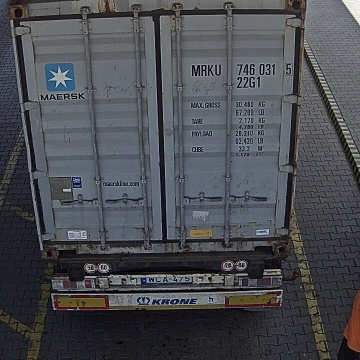serial_id: (192, 62, 293, 76)
